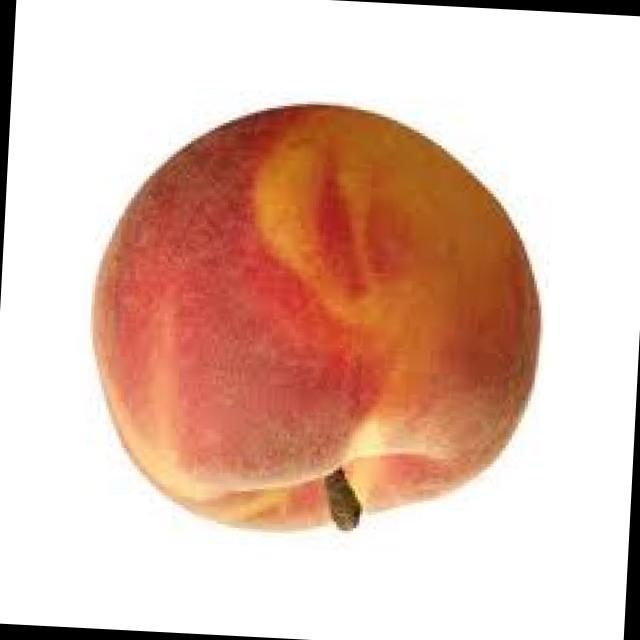Peach: (37, 74, 595, 608)
